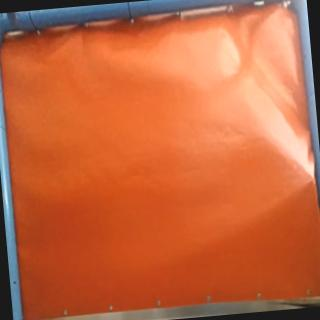Hit-hRxx: (306, 168, 320, 188)
